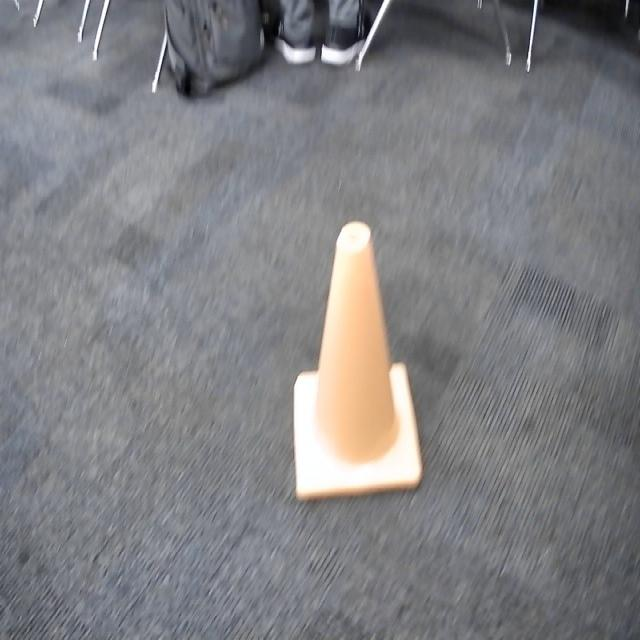cone: (291, 220, 426, 502)
